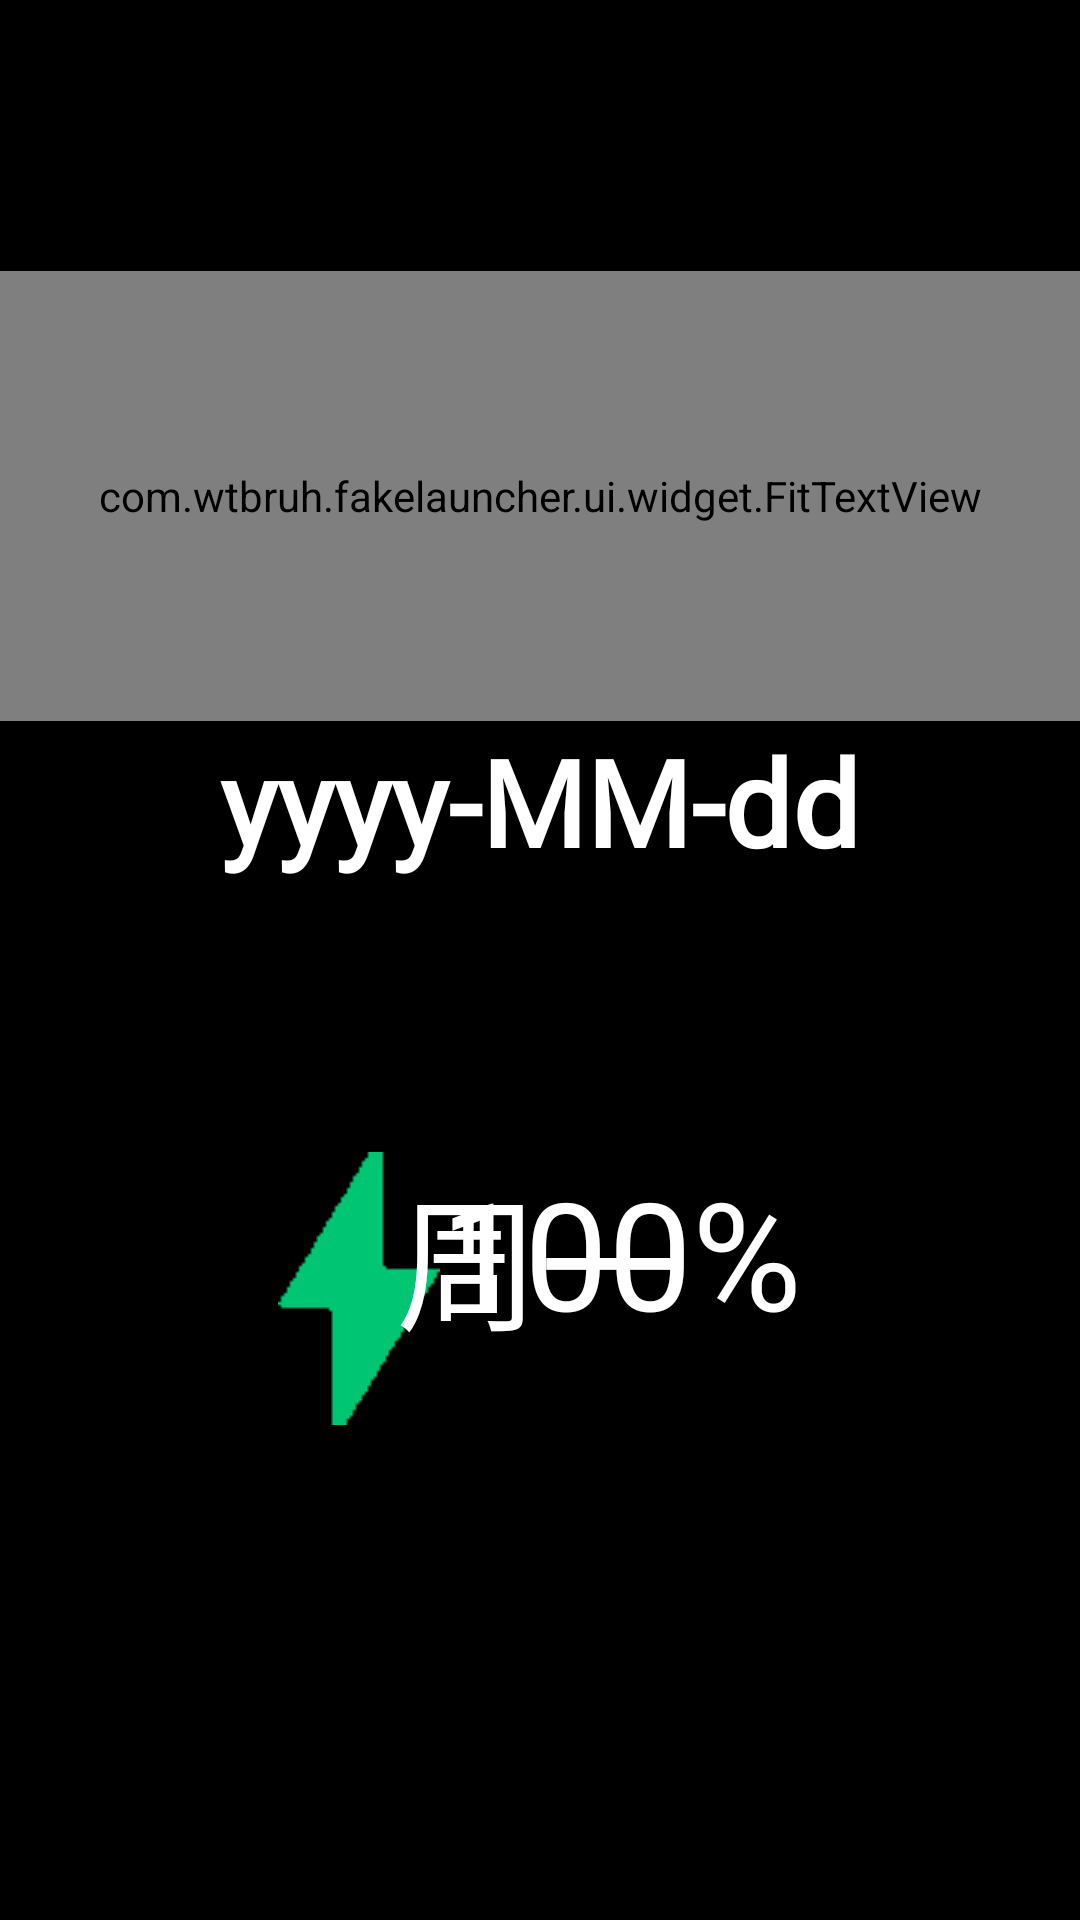

Named icons in this screenshot (1080 x 1920) and their centers, point (x, y):
Charging: point (359, 1288)
